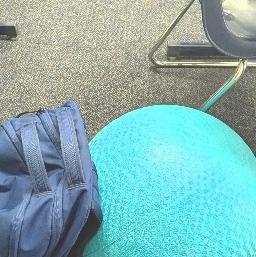algae: (81, 107, 256, 257)
